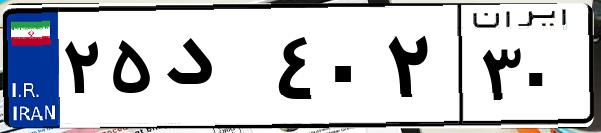0: (330, 28, 385, 110), (525, 38, 570, 115)
2: (385, 28, 445, 110), (57, 26, 110, 100)
3: (475, 38, 525, 113)
4: (270, 28, 330, 110)
5: (110, 28, 158, 98)
د: (158, 20, 270, 120)
